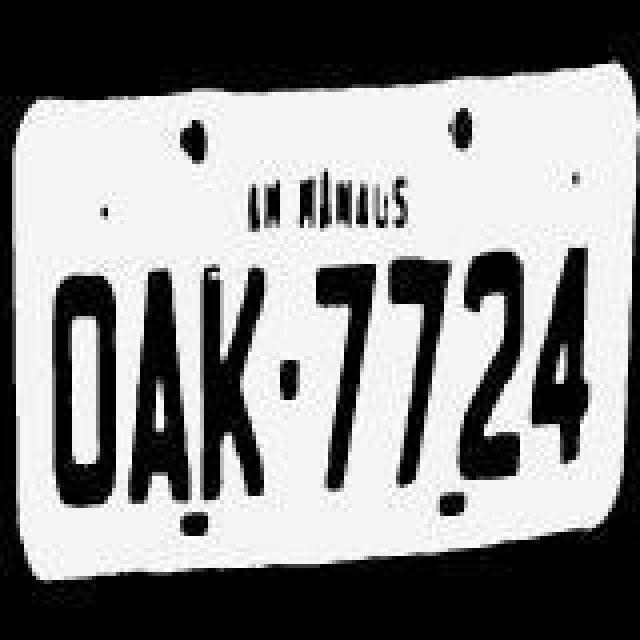2: (456, 238, 528, 490)
4: (526, 232, 594, 480)
7: (302, 252, 386, 516), (386, 240, 454, 504)
A: (122, 258, 190, 510)
K: (194, 254, 270, 514)
O: (46, 254, 130, 522)
